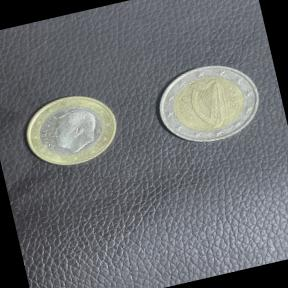coin: (145, 51, 270, 157), (13, 82, 128, 179)
